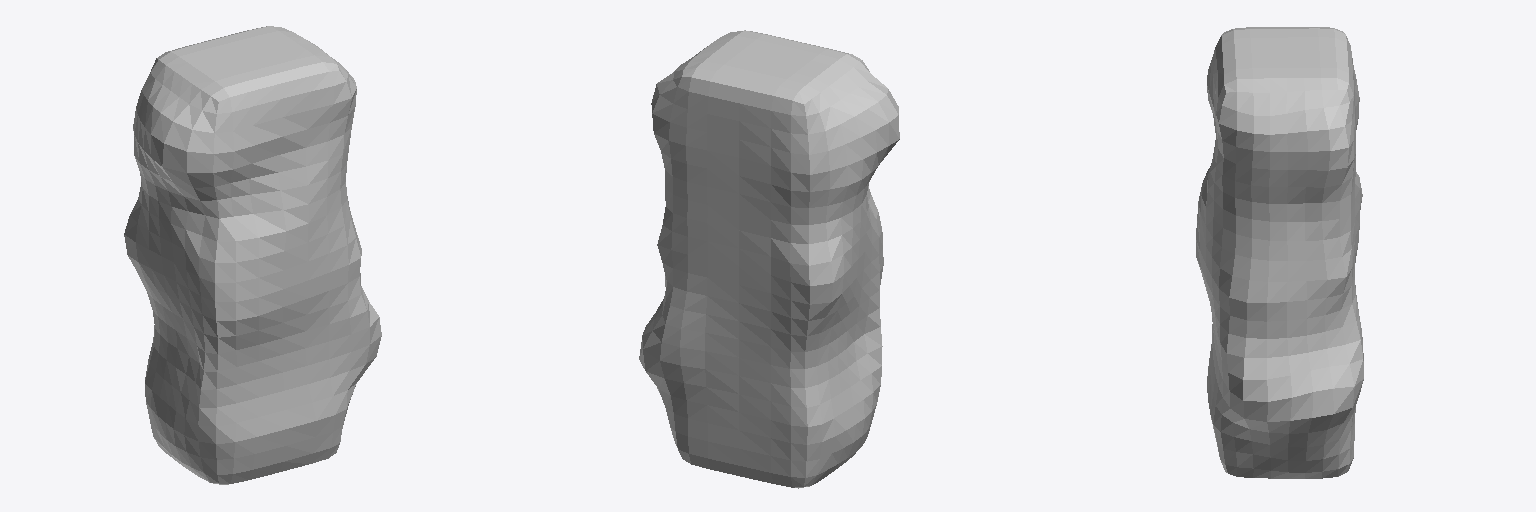
Rendered from PM3D_rock010_007.OBJ.
3 renders of one model, left to right at view 1: azimuth 30°, elevation 25°; view 2: azimuth 150°, elevation 25°; view 3: azimuth 270°, elevation 25°, orthographic.
Parts seen in each view (by area): view 1: Group39784; view 2: Group39784; view 3: Group39784.
Boxes of the visible parts, x1=… form: Group39784: x1=124, y1=26, x2=381, y2=484; Group39784: x1=639, y1=30, x2=899, y2=488; Group39784: x1=1196, y1=27, x2=1363, y2=478.
Bounding box in the file's own units: 2474 × 4181 × 1595.